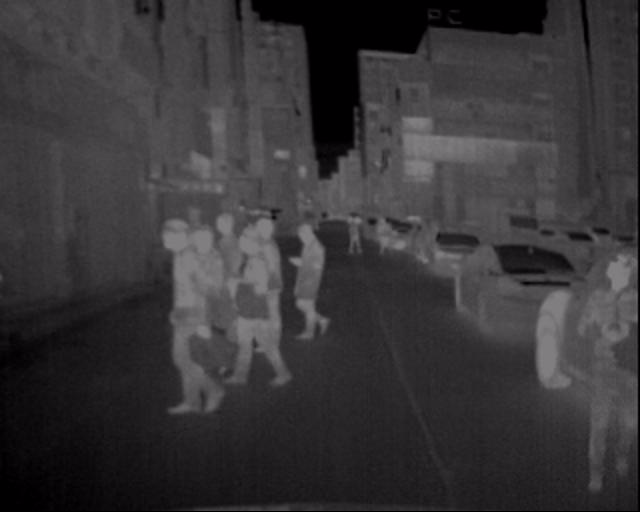person: (133, 186, 287, 445), (571, 228, 636, 493), (285, 210, 339, 356)
